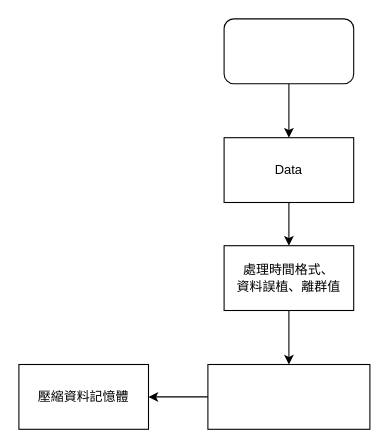
Image size: 389x448. Some labels were removed from this diagram. The centre of each missing label's shape, as x and y in pixels:
"Start" belongs at pixel 288 51.
"利用 itertools.product生成數據" belongs at pixel 288 396.
